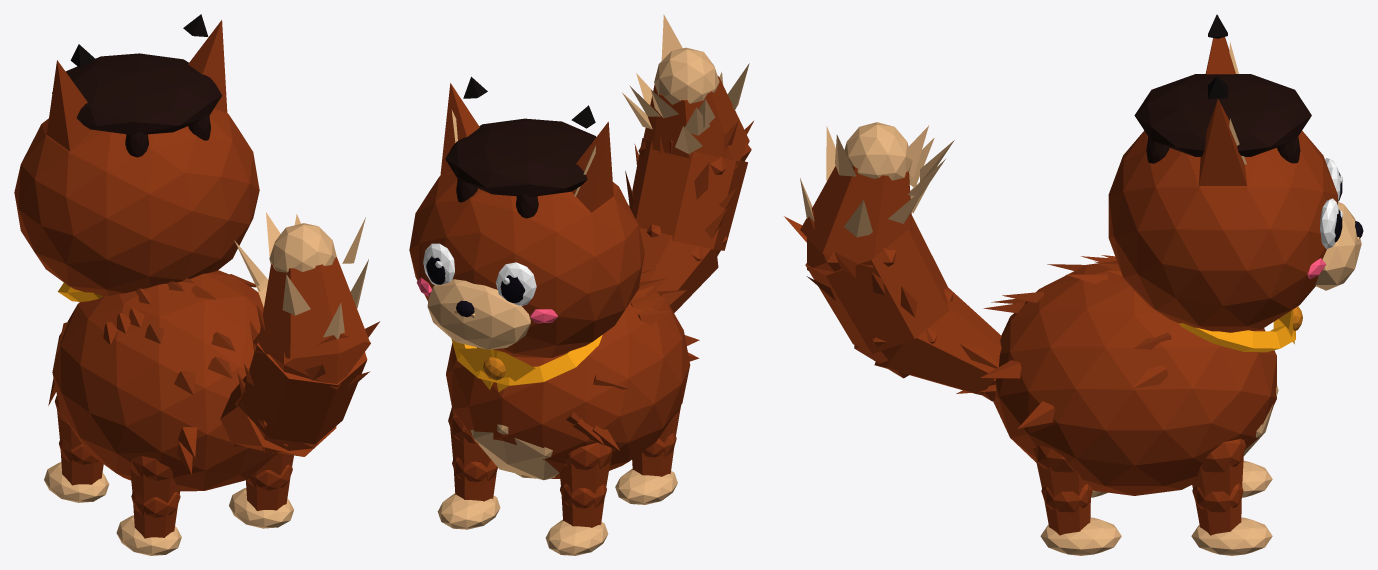
File: cocoa_fox.obj
The picture shows the model from 3 angles, left to right: view 1: azimuth 30°, elevation 25°; view 2: azimuth 150°, elevation 25°; view 3: azimuth 270°, elevation 25°; orthographic projection. The views are drawn at different scales.
Parts seen in each view (by area): view 1: Head_2_m4, Body_1_m1, Head_2_m28, Tail3_13_m26, Tail2_12_m25, Tail3_13_m27, Tail1_11_m24, Leg3Lo_8_m18, Leg3Up_7_m17, Leg4Lo_10_m21, Body_1_m3, Leg1Lo_4_m12 (+6 smaller); view 2: Head_2_m4, Body_1_m1, Head_2_m28, Tail2_12_m25, Tail3_13_m27, Head_2_m5, Tail3_13_m26, Tail1_11_m24, Body_1_m29, Body_1_m2, Leg1Up_3_m11, Leg2Lo_6_m16 (+11 smaller); view 3: Body_1_m1, Head_2_m4, Tail2_12_m25, Head_2_m28, Tail3_13_m26, Tail1_11_m24, Tail3_13_m27, Head_2_m5, Body_1_m29, Leg2Up_5_m14, Leg4Lo_10_m22, Leg2Lo_6_m16 (+6 smaller).
Boxes of the visible parts, x1,y1,x2,y2 form: Head_2_m4: (14, 20, 259, 296); Body_1_m1: (48, 270, 277, 491); Head_2_m28: (52, 53, 221, 157); Tail3_13_m26: (253, 257, 370, 389); Tail2_12_m25: (235, 305, 379, 453); Tail3_13_m27: (234, 212, 368, 339); Tail1_11_m24: (220, 376, 336, 456); Leg3Lo_8_m18: (131, 491, 180, 538); Leg3Up_7_m17: (130, 456, 180, 502); Leg4Lo_10_m21: (246, 464, 292, 510); Body_1_m3: (57, 274, 256, 395); Leg1Lo_4_m12: (59, 437, 103, 485); Head_2_m4: (409, 83, 644, 357); Body_1_m1: (446, 278, 699, 478); Head_2_m28: (445, 118, 596, 218); Tail2_12_m25: (625, 121, 753, 260); Tail3_13_m27: (622, 14, 749, 153); Head_2_m5: (427, 110, 595, 349); Tail3_13_m26: (638, 76, 751, 174); Tail1_11_m24: (639, 227, 718, 312); Body_1_m29: (451, 335, 602, 391); Body_1_m2: (470, 424, 559, 480); Leg1Up_3_m11: (559, 442, 612, 493); Leg2Lo_6_m16: (437, 493, 500, 529); Body_1_m1: (956, 255, 1276, 495); Head_2_m4: (1108, 15, 1337, 332); Tail2_12_m25: (784, 215, 952, 378); Head_2_m28: (1134, 74, 1311, 163); Tail3_13_m26: (800, 166, 911, 271); Tail1_11_m24: (874, 287, 1001, 401); Tail3_13_m27: (800, 122, 954, 237); Head_2_m5: (1229, 42, 1361, 290); Body_1_m29: (1179, 309, 1295, 352); Leg2Up_5_m14: (1191, 438, 1245, 496); Leg4Lo_10_m22: (1040, 517, 1121, 555); Leg2Lo_6_m16: (1191, 517, 1272, 555).
Bounding box in the file's own units: 1.45 × 2.97 × 3.27.
